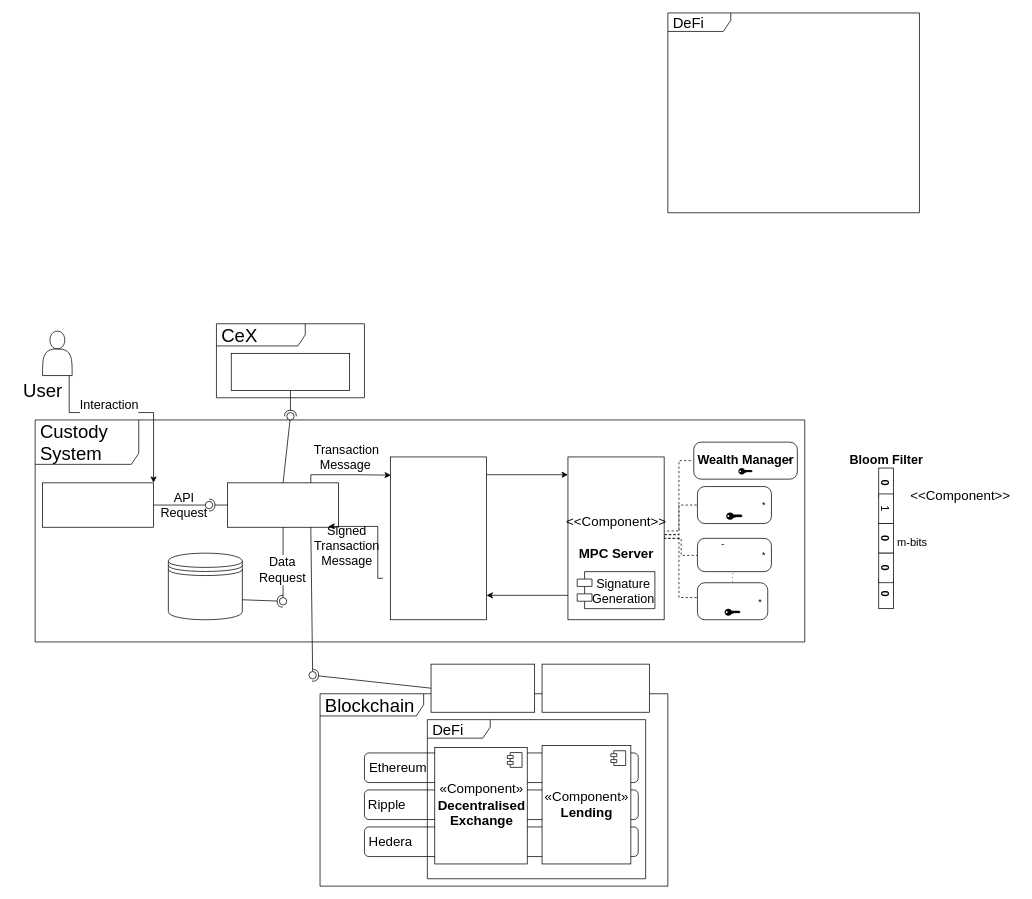
Image size: 1032x899. Some labels were removed from this diagram. Each missing label, with the centre of its shape:
<<Component>> Backend: (283,504)
<<Component>> Exchange: (290,371)
<<Component>> Frontend: (98,504)
<<Component>> Gateway: (482,687)
<<Component>> Indexing Service: (595,687)
Client 1: (734,505)
Client 2: (734,555)
Client t: (732,601)
Database: (205,586)
